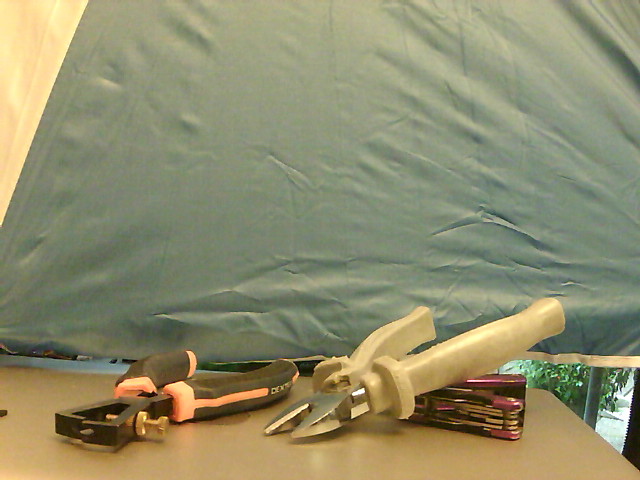pliers: (263, 281, 570, 443)
